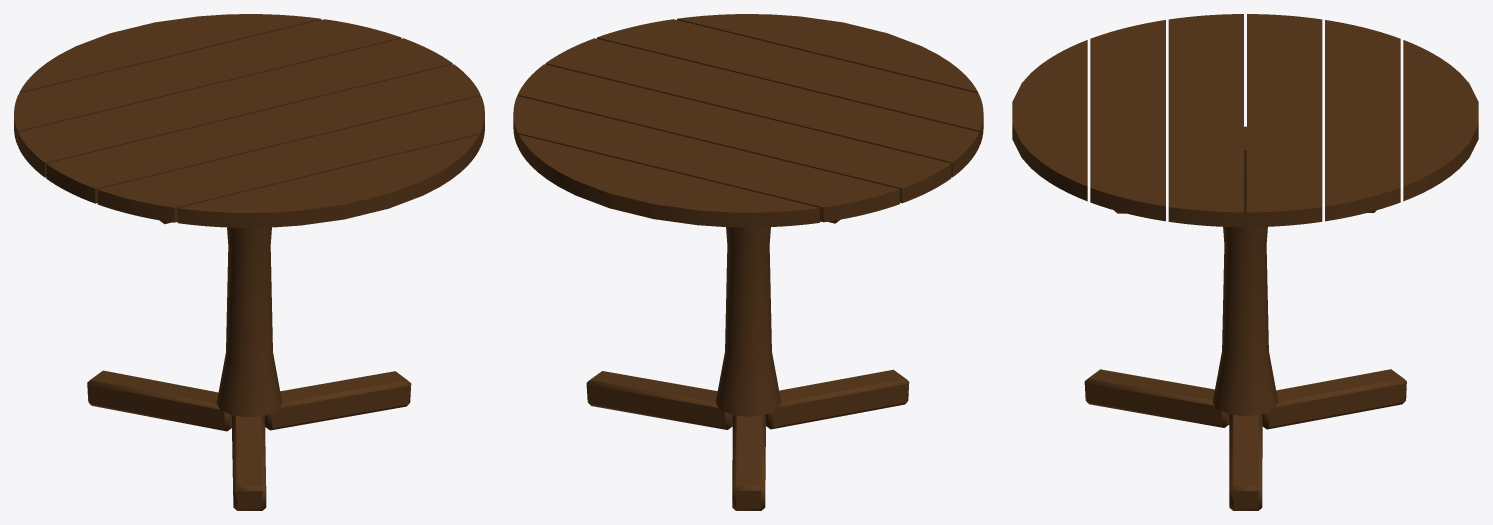
The model's file is tisch_rund.glb.
The picture shows the model from 3 angles, left to right: view 1: azimuth 30°, elevation 25°; view 2: azimuth 150°, elevation 25°; view 3: azimuth 270°, elevation 25°; orthographic projection.
Parts seen in each view (by area): view 1: tisch_rund; view 2: tisch_rund; view 3: tisch_rund.
Part boxes in pixels (x1,y1,x2,y2): tisch_rund: (14,14,484,510); tisch_rund: (513,14,983,510); tisch_rund: (1012,14,1478,510).
Size of the model in its own units: 1 by 0.7623 by 0.994.
